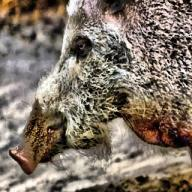boar: (9, 0, 192, 191)
